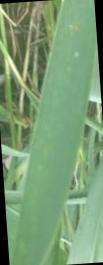Potato: (25, 13, 94, 251)
